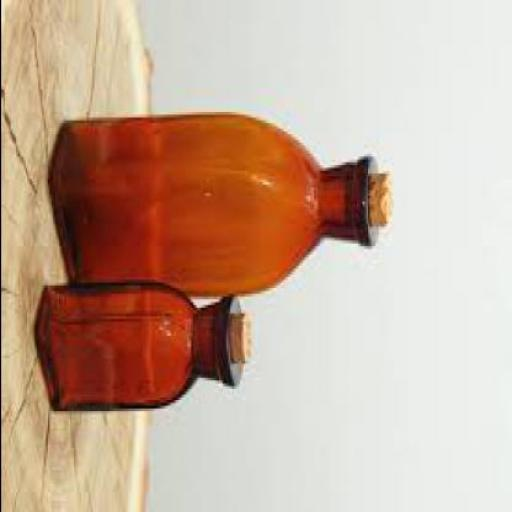glass: (48, 112, 378, 294), (35, 280, 242, 408)
